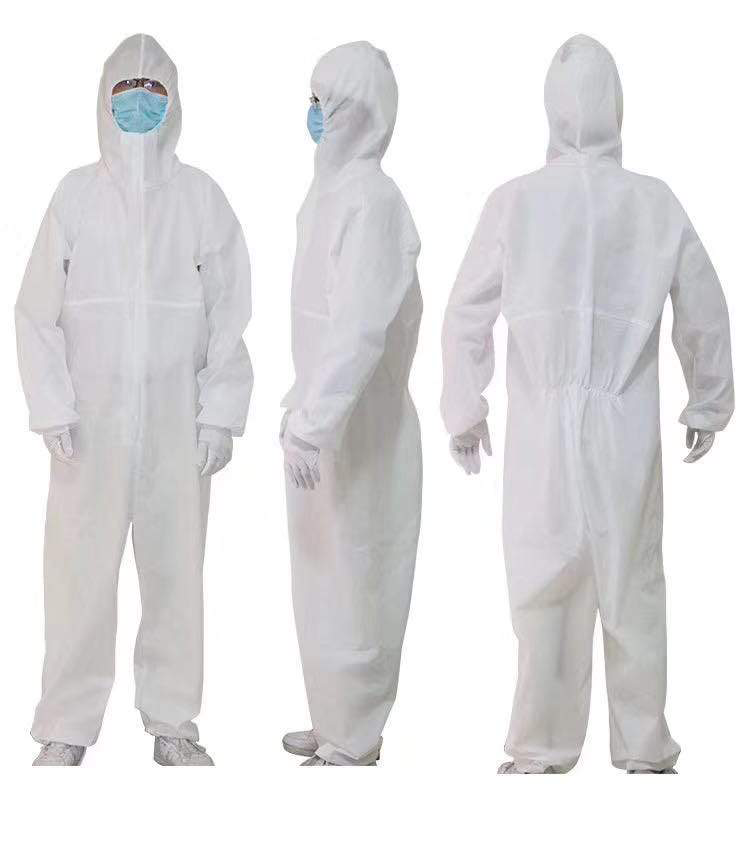Coverall: (441, 36, 736, 761), (12, 29, 252, 747), (277, 43, 426, 764)
Gloves: (190, 418, 238, 478), (448, 423, 495, 478), (283, 434, 324, 491), (42, 418, 78, 469)
with_mask: (108, 83, 169, 136)
